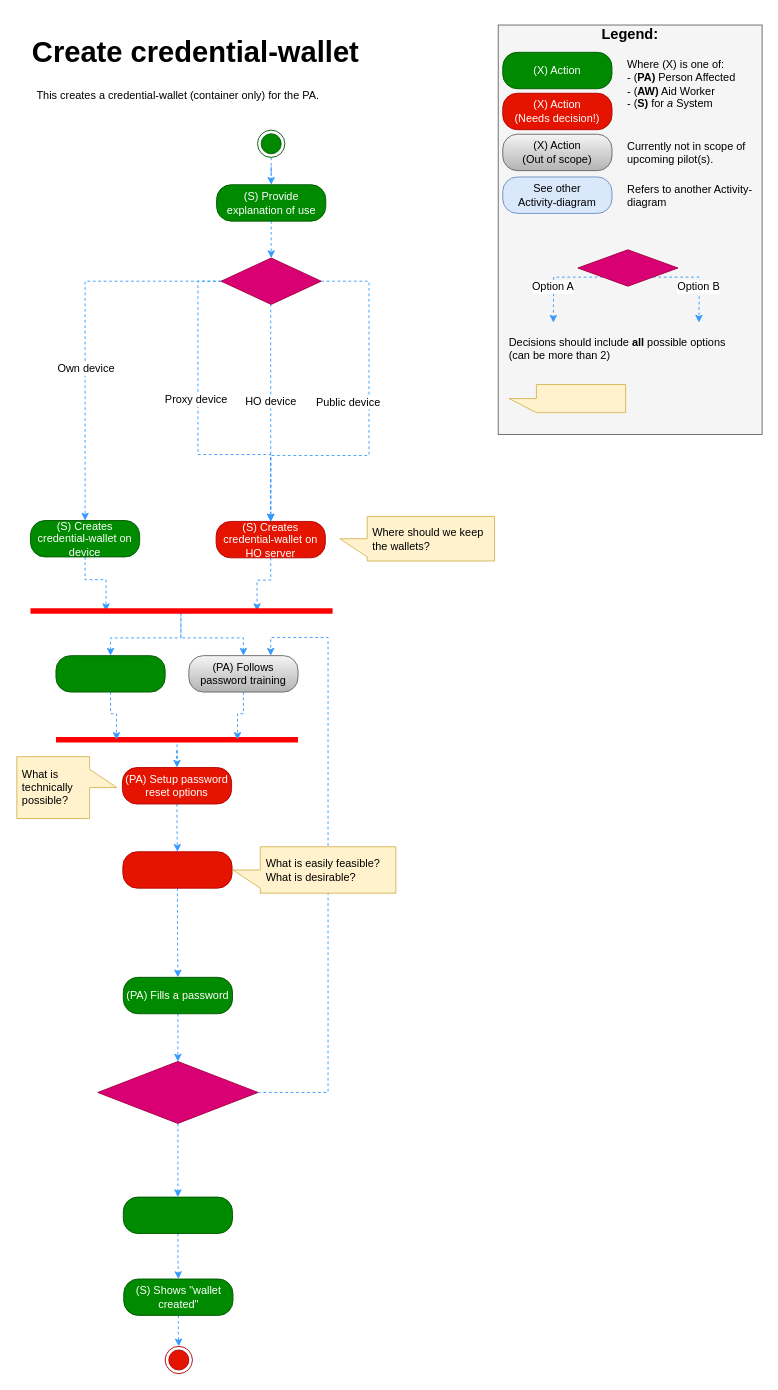
The diagram is 778 pixels wide and 1390 high, and some of its shapes have lost their labels. The centre of each missing label's shape, as x and y in pixels:
"(PA) Confirms password/implications" goes at point 177,1092.
"(PA) Setup backup options" goes at point 177,869.
"(PA) Thinks up a password" goes at point 110,673.
"(S) Encrypts Wallet with password" goes at point 177,1215.
"(X) Decision" goes at point 627,267.
"Device type is..." goes at point 270,280.
"Explanation" goes at point 567,398.
